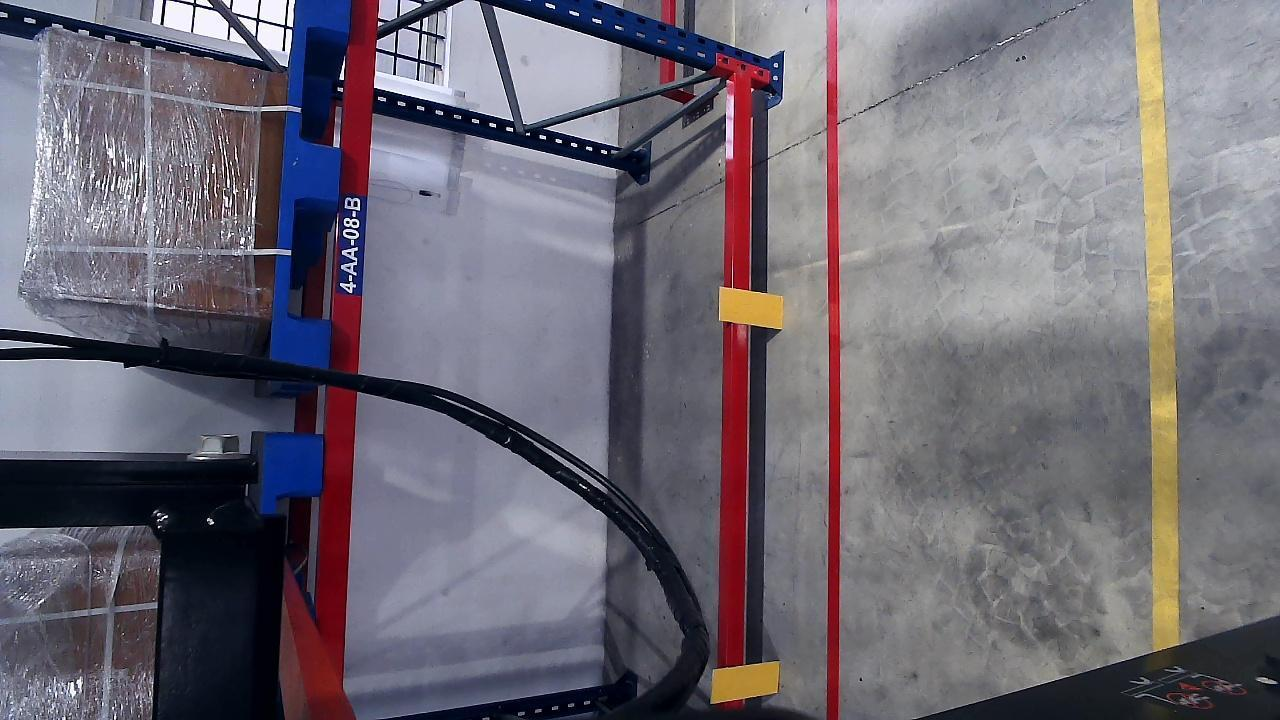red_line: (812, 0, 850, 719)
yellow_line: (1139, 0, 1181, 646)
